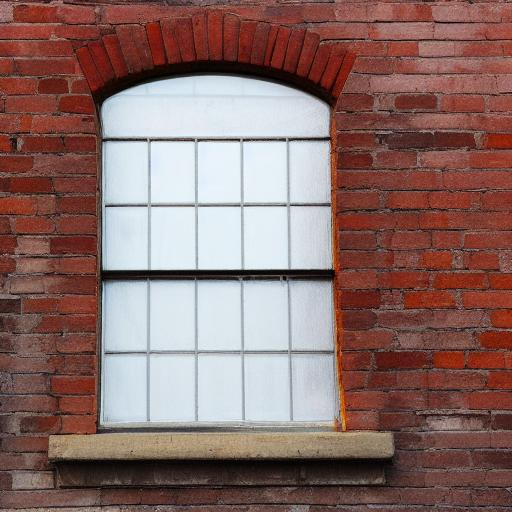Window: (48, 17, 398, 491)
